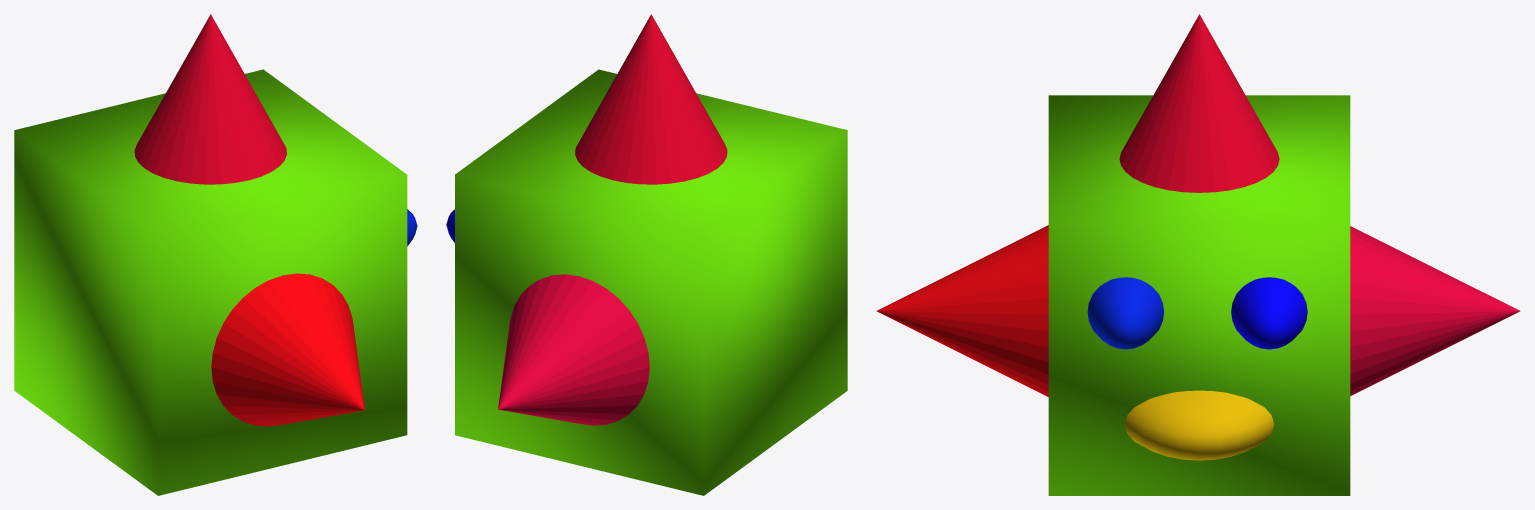
File: Enemy.fbx
3 views of the same model, side by side, from view 1: azimuth 30°, elevation 25°; view 2: azimuth 150°, elevation 25°; view 3: azimuth 270°, elevation 25° (orthographic). The views are drawn at different scales.
Visible parts, largest first — view 1: Cube, Cone.002, Cone; view 2: Cube, Cone.001, Cone; view 3: Cube, Cone, Cone.002, Cone.001, Sphere, Sphere.002, Sphere.001.
Part boxes in pixels (box(x1,y1,x2,y2)): Cube: box(14, 69, 407, 495); Cone.002: box(211, 273, 364, 426); Cone: box(134, 14, 286, 184); Cube: box(455, 69, 847, 495); Cone.001: box(498, 274, 649, 425); Cone: box(575, 14, 727, 184); Cube: box(1048, 95, 1350, 495); Cone: box(1119, 14, 1279, 192); Cone.002: box(876, 225, 1048, 396); Cone.001: box(1350, 226, 1520, 395); Sphere: box(1124, 390, 1274, 460); Sphere.002: box(1231, 277, 1307, 349); Sphere.001: box(1087, 277, 1163, 349).
Size of the model in its own units: 3.54 by 4.59 by 6.42.
